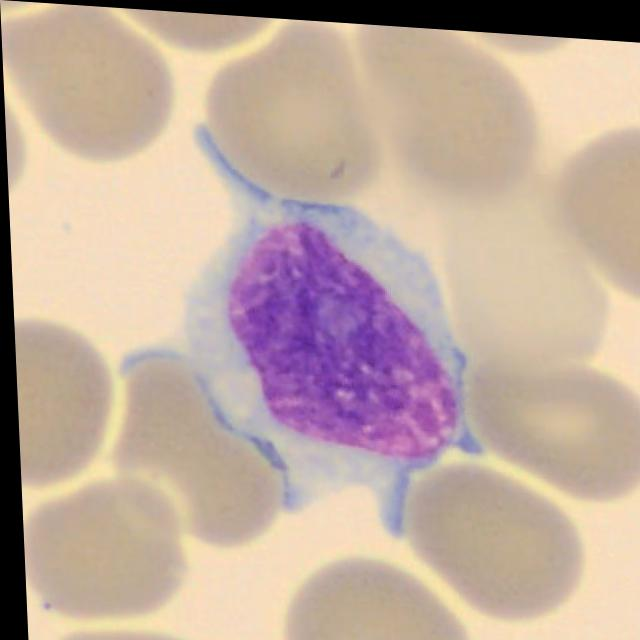Linfocito atipico: (120, 121, 475, 536)
